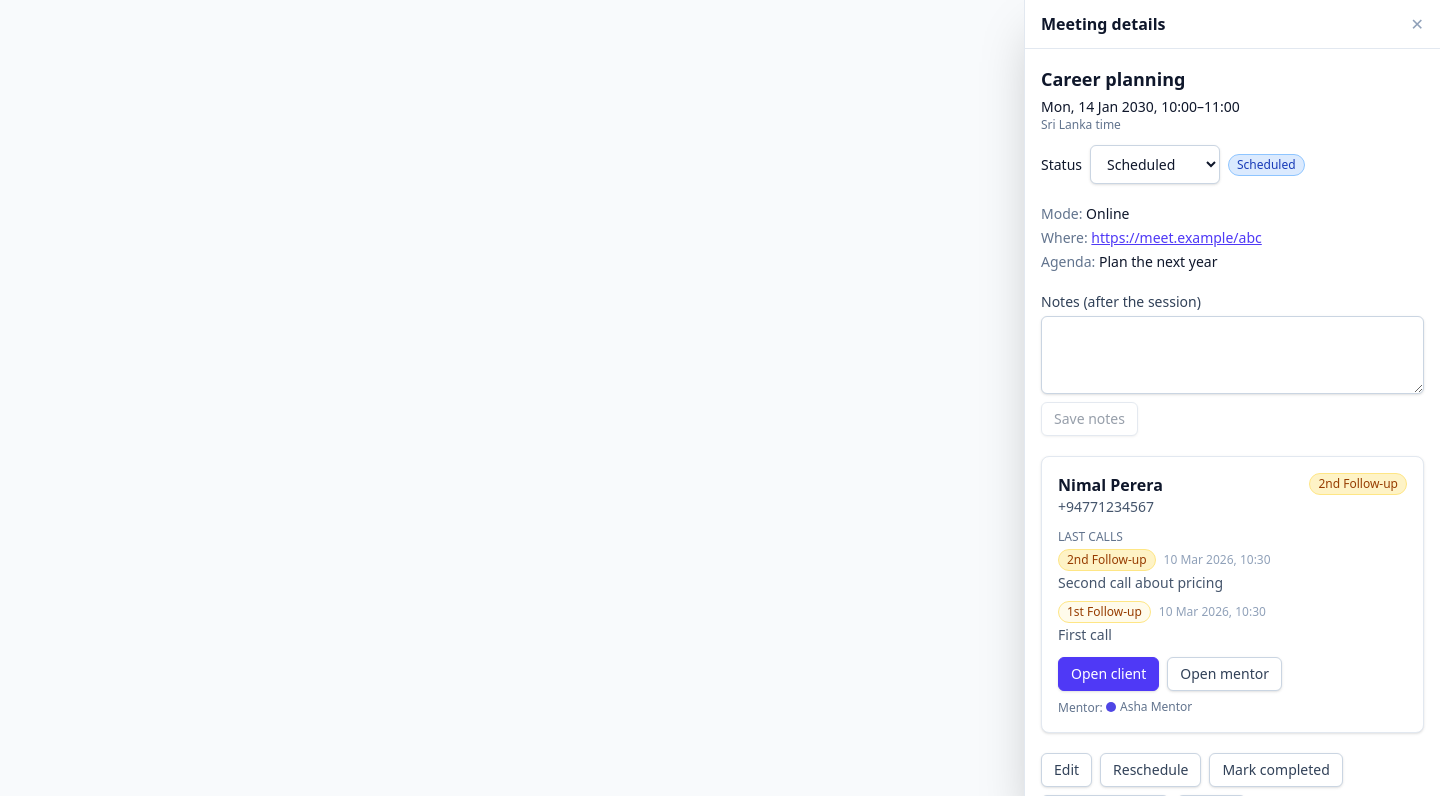
it: Meeting details panel › changing the status dropdown to "No-show" updates right away; "Completed" goes through the dialog
Expected: the heading "Career planning" is shown, [1041, 67, 1185, 91]
Select "No-show" in the dropdown labelled "Status" at point(1155, 164), box [1090, 145, 1220, 184]
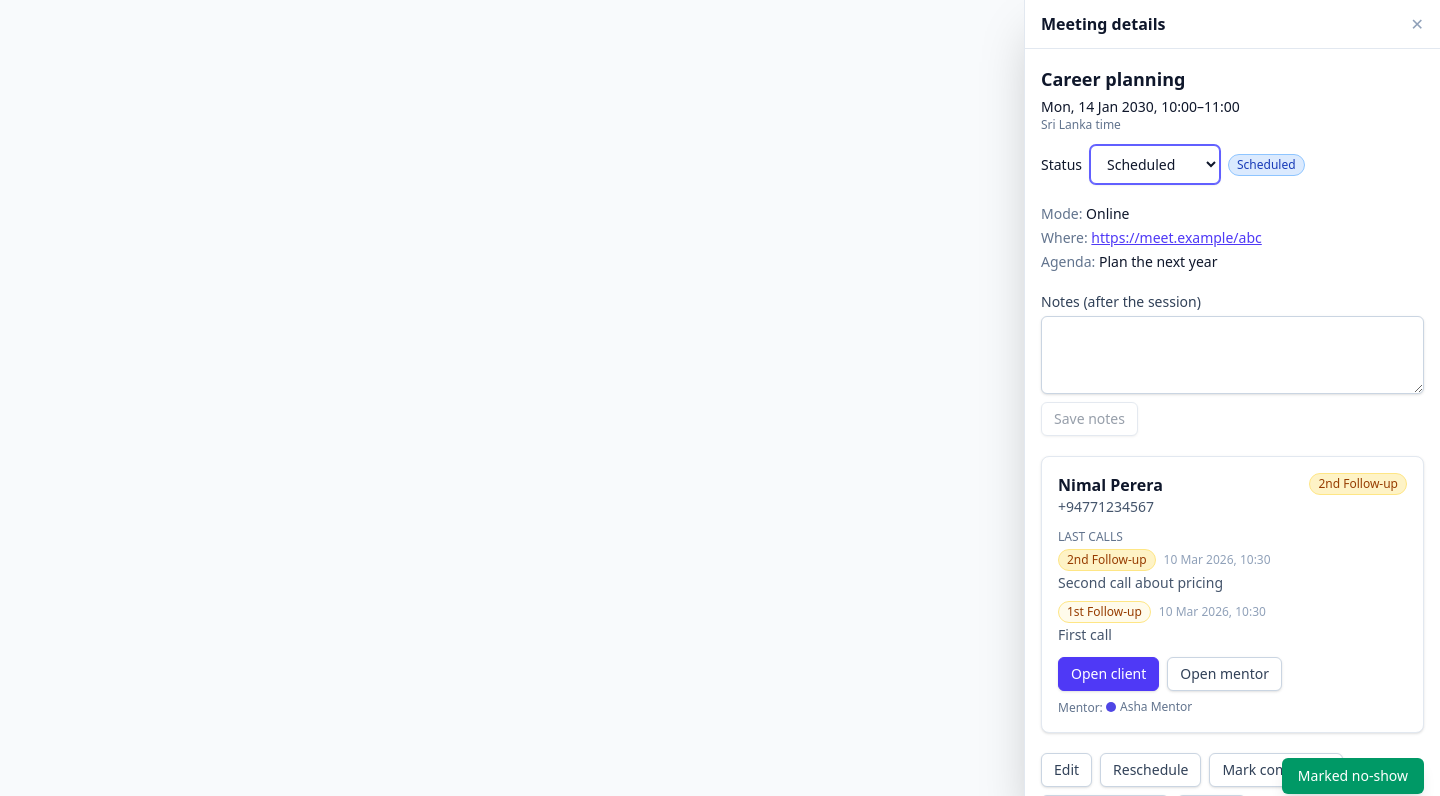
Select "Completed" in the dropdown labelled "Status" at point(1155, 164), box [1090, 145, 1220, 184]
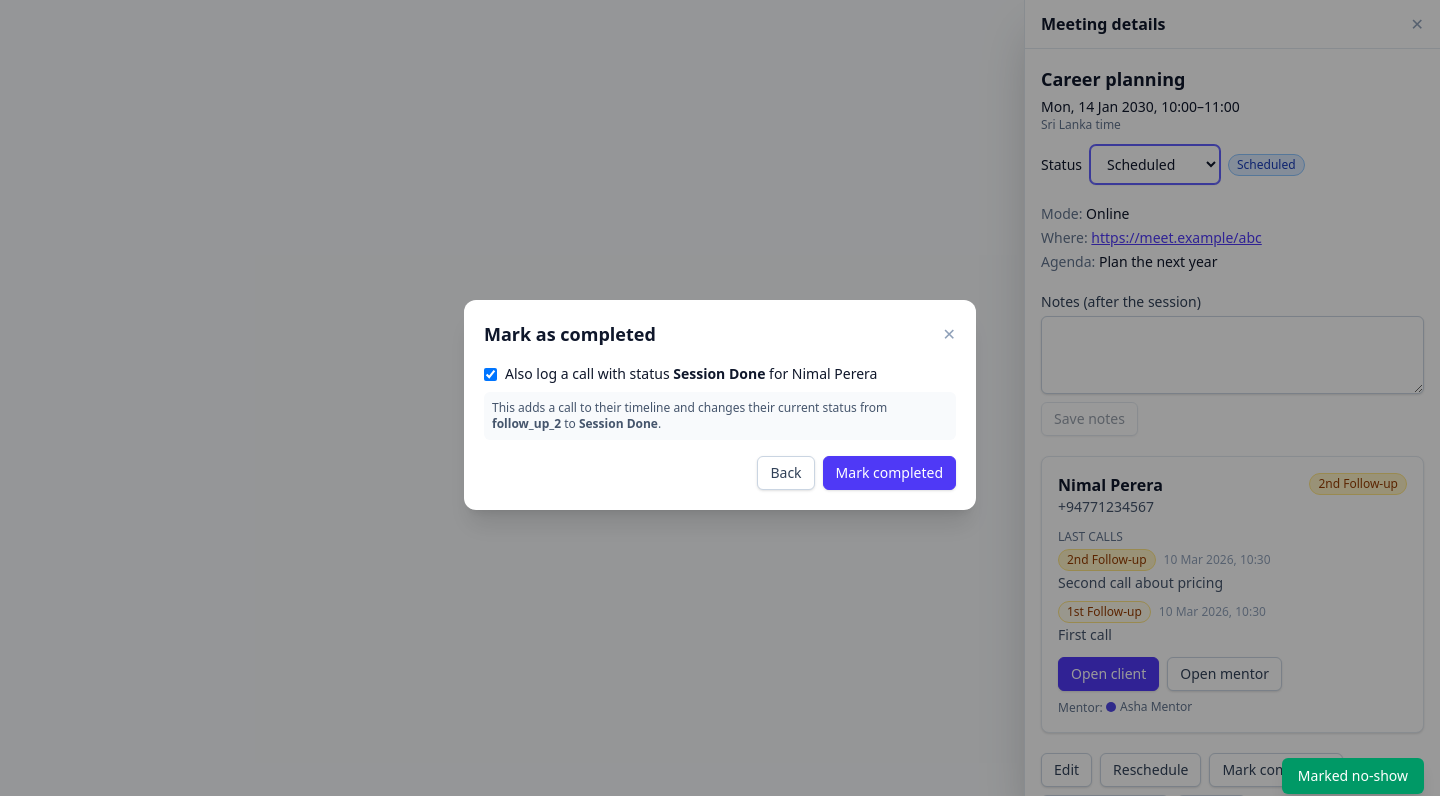
Expected: the dialog "Mark as completed" is shown, [464, 300, 976, 510]
